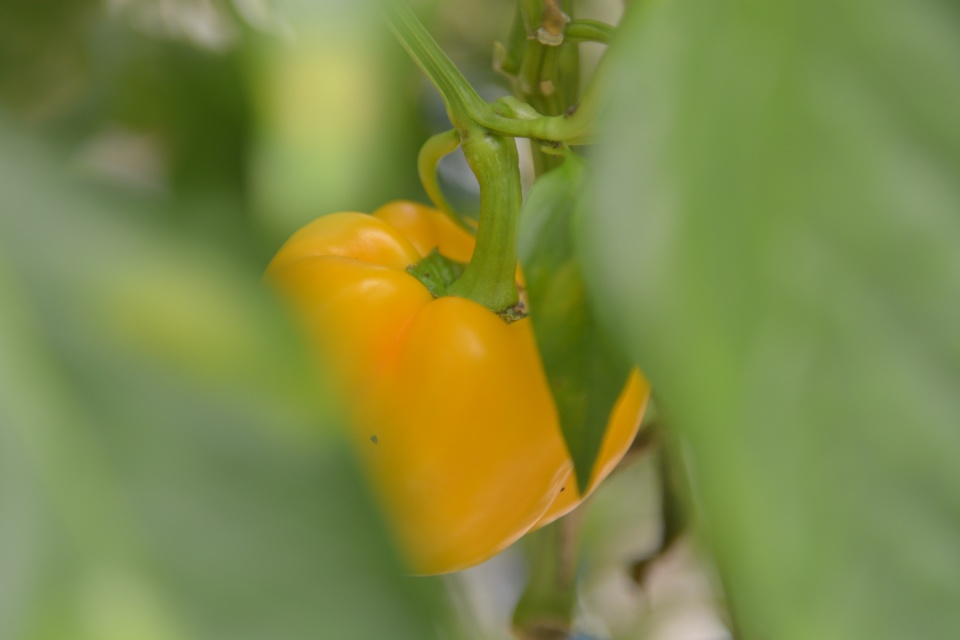fruit: (252, 191, 656, 585)
pedicle: (401, 246, 526, 320)
